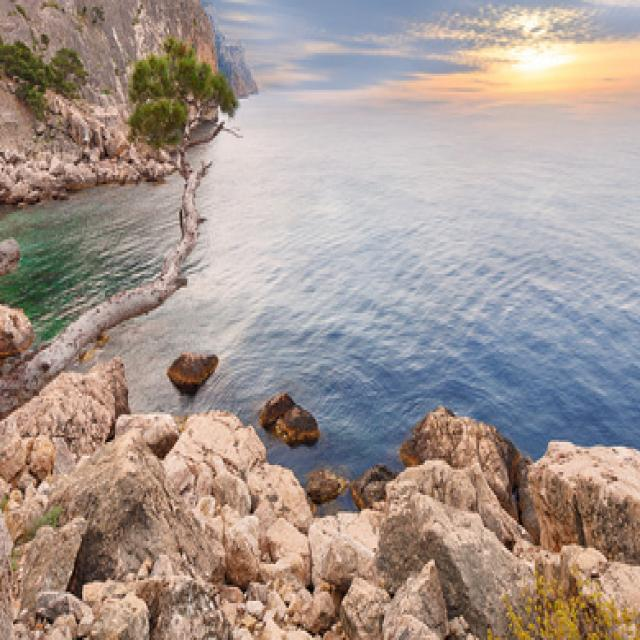reef: (165, 322, 606, 640)
